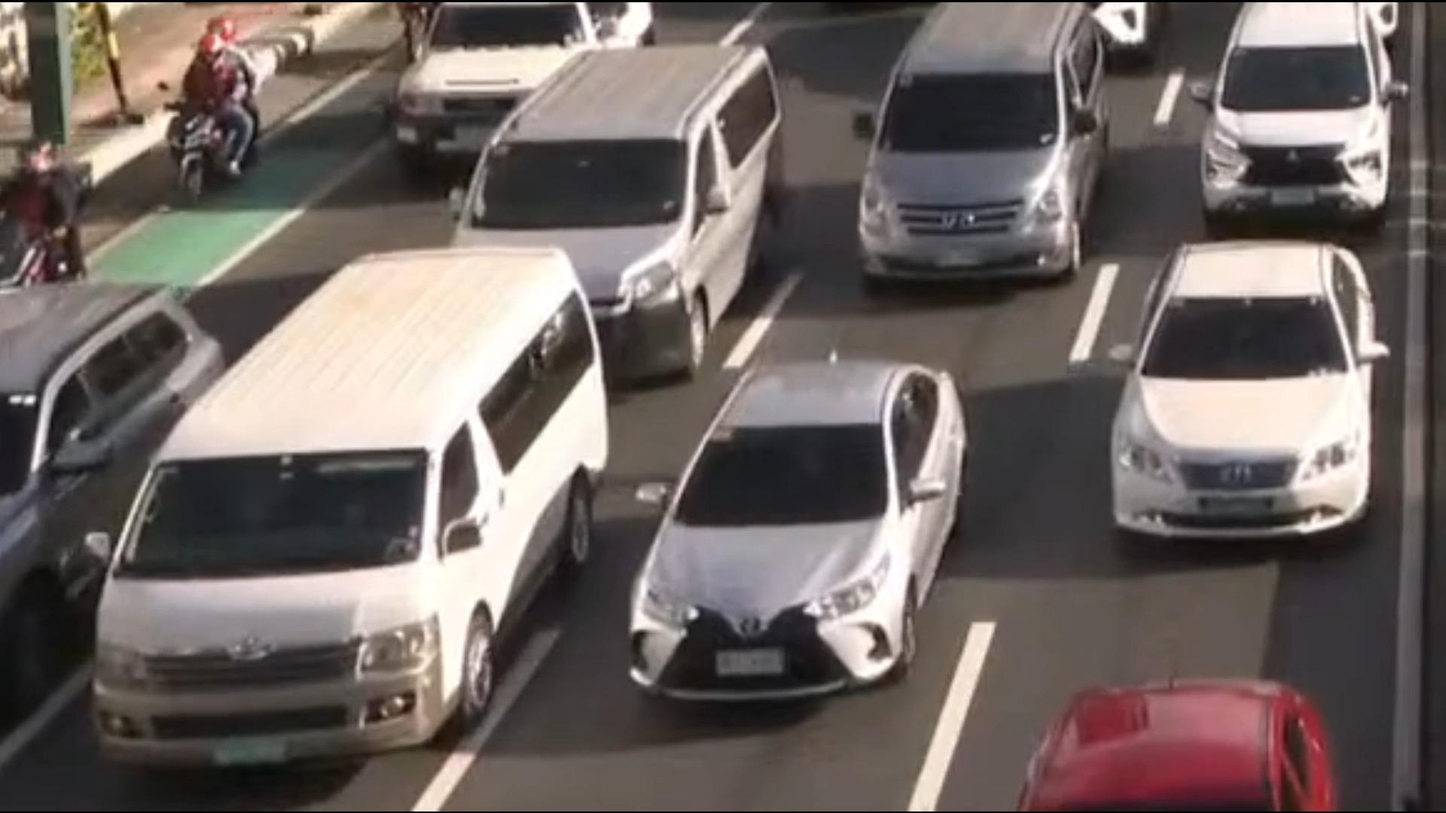Motorcycle: (162, 21, 256, 192), (0, 132, 85, 286)
SUV: (0, 273, 213, 676), (392, 0, 663, 194), (1196, 0, 1393, 218)
Sedan: (636, 365, 962, 691), (1113, 235, 1374, 548), (1022, 676, 1333, 813)
Van: (100, 241, 608, 764), (431, 45, 781, 367), (868, 9, 1105, 282)
